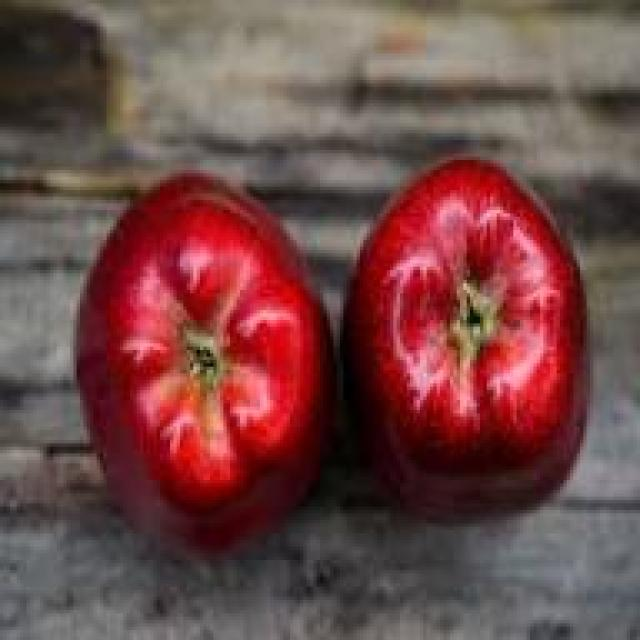apple: (73, 174, 337, 554), (350, 150, 593, 527)
